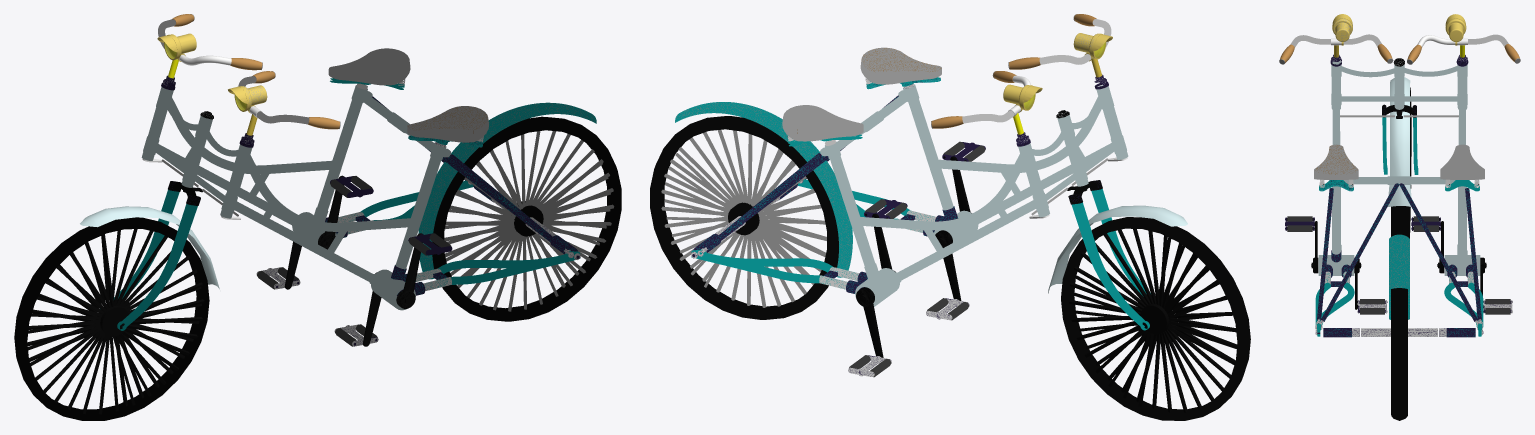
Rendered from Buddy_bike_2.fbx.
3 renders of one model, left to right at view 1: azimuth 30°, elevation 25°; view 2: azimuth 150°, elevation 25°; view 3: azimuth 270°, elevation 25°, orthographic. The views are drawn at different scales.
Visible parts, largest first — view 1: Frame, wheel_back1, wheel_front, LP_seat, RP_seat1, pPlane1, ID35053, ID35253, LP_l_pedalarm, pCube14, LP_l_pedal, pCube15 (+10 smaller); view 2: Frame, wheel_back1, wheel_front, RP_seat1, LP_seat, pPlane1, ID35253, RP_r_pedalarm, ID35053, pCube15, pCube14, pCube16 (+10 smaller); view 3: Frame, wheel_back1, pPlane1, RP_seat1, LP_seat, wheel_front, RP_r_pedal, LP_l_pedal, LP_r_pedal, RP_l_pedal, ID35053, ID17941 (+6 smaller).
Part boxes in pixels (bbox=[...]): Frame: bbox=[141, 75, 596, 310]; wheel_back1: bbox=[432, 116, 621, 321]; wheel_front: bbox=[14, 217, 209, 420]; LP_seat: bbox=[407, 106, 488, 147]; RP_seat1: bbox=[328, 48, 410, 89]; pPlane1: bbox=[80, 206, 219, 289]; ID35053: bbox=[117, 204, 197, 330]; ID35253: bbox=[114, 189, 179, 299]; LP_l_pedalarm: bbox=[396, 233, 422, 308]; pCube14: bbox=[54, 236, 167, 402]; LP_l_pedal: bbox=[408, 233, 452, 255]; pCube15: bbox=[67, 231, 153, 409]; Frame: bbox=[675, 74, 1128, 306]; wheel_back1: bbox=[650, 116, 838, 319]; wheel_front: bbox=[1061, 217, 1250, 420]; RP_seat1: bbox=[782, 105, 863, 146]; LP_seat: bbox=[860, 47, 941, 89]; pPlane1: bbox=[1048, 205, 1187, 293]; ID35253: bbox=[1071, 202, 1149, 330]; RP_r_pedalarm: bbox=[856, 287, 883, 357]; ID35053: bbox=[1091, 189, 1150, 296]; pCube15: bbox=[1118, 229, 1201, 408]; pCube14: bbox=[1103, 233, 1213, 401]; pCube16: bbox=[1133, 229, 1187, 412]; Frame: bbox=[1315, 54, 1483, 337]; wheel_back1: bbox=[1391, 288, 1407, 420]; pPlane1: bbox=[1387, 77, 1411, 206]; RP_seat1: bbox=[1440, 144, 1484, 191]; LP_seat: bbox=[1314, 144, 1358, 191]; wheel_front: bbox=[1391, 87, 1411, 238]; RP_r_pedal: bbox=[1483, 299, 1512, 314]; LP_l_pedal: bbox=[1285, 216, 1314, 231]; LP_r_pedal: bbox=[1357, 299, 1387, 314]; RP_l_pedal: bbox=[1411, 216, 1441, 231]; ID35053: bbox=[1382, 117, 1387, 174]; ID17941: bbox=[1448, 22, 1463, 42].
Bounding box in the file's own units: 310 × 165 × 134.
